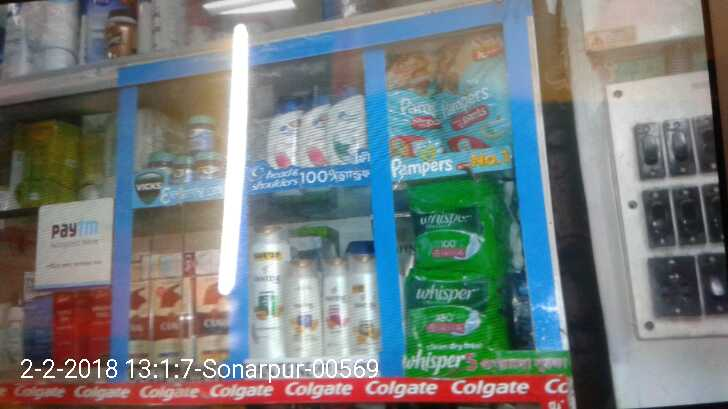vicks: (143, 112, 225, 189)
